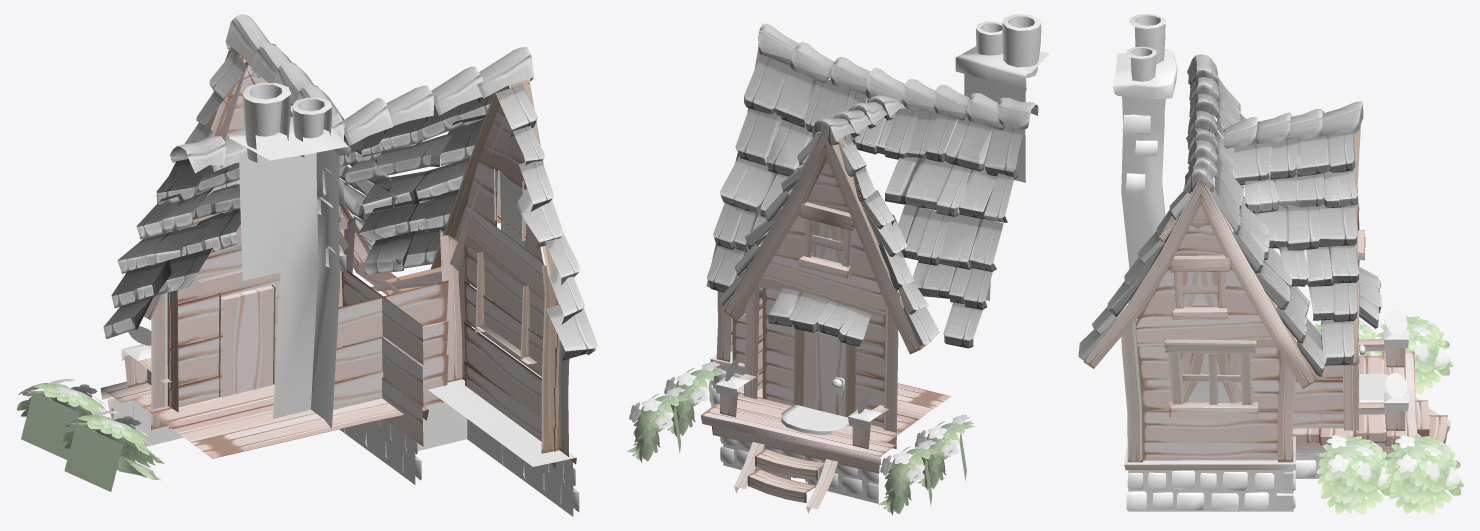
The model's file is HouseVillage2.fbx.
3 views of the same model, side by side, from view 1: azimuth 30°, elevation 25°; view 2: azimuth 150°, elevation 25°; view 3: azimuth 270°, elevation 25° (orthographic). The views are drawn at different scales.
Visible parts, largest first — view 1: House2_Yellow, BushSmallBlue (2), BushSmallBlue; view 2: House2_Yellow, BushSmallBlue (×2), BushSmallBlue (1), BushSmallBlue (2); view 3: House2_Yellow, BushSmallBlue (×2), BushSmallBlue (1).
Part boxes in pixels (<box>): House2_Yellow: <box>100,14,597,516</box>; BushSmallBlue (2): <box>60,414,164,491</box>; BushSmallBlue: <box>17,383,109,459</box>; House2_Yellow: <box>700,14,1049,513</box>; BushSmallBlue (×2): <box>667,368,939,515</box>; BushSmallBlue (1): <box>627,393,688,462</box>; BushSmallBlue (2): <box>917,421,974,490</box>; House2_Yellow: <box>1078,14,1450,511</box>; BushSmallBlue (×2): <box>1316,316,1453,514</box>; BushSmallBlue (1): <box>1385,435,1464,514</box>.
Size of the model in its own units: 4.41 by 5.43 by 4.92.
